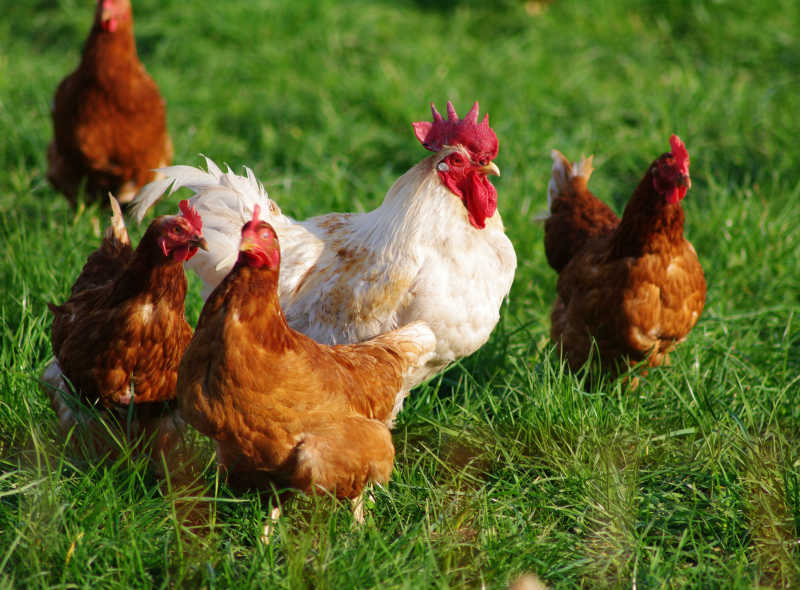chicken: (541, 130, 708, 392)
